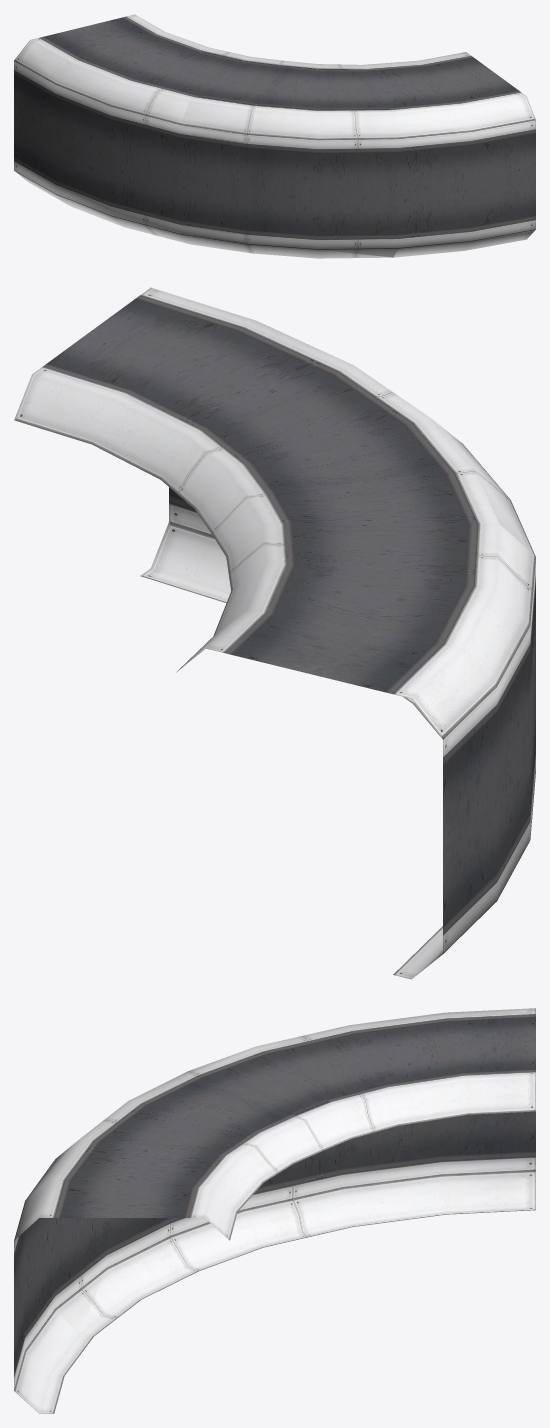
The model's file is GroundTrimcornerBCap.FBX.
3 renders of one model, top to bottom at view 1: azimuth 30°, elevation 25°; view 2: azimuth 150°, elevation 25°; view 3: azimuth 270°, elevation 25°, orthographic. The views are drawn at different scales.
Visible parts, largest first — view 1: GroundTrimcornerBCap; view 2: GroundTrimcornerBCap; view 3: GroundTrimcornerBCap.
Boxes of the visible parts, x1,y1,x2,y2 form: GroundTrimcornerBCap: (14,14,535,258); GroundTrimcornerBCap: (14,287,535,979); GroundTrimcornerBCap: (14,1008,535,1413).
Size of the model in its own units: 3.15 by 1.3 by 3.15.
